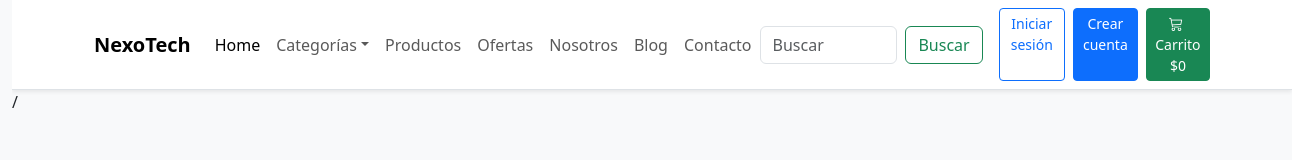
AppNavbar › al buscar navega al catálogo con el texto en la URL
Type "mouse gamer" into the search field with placeholder "Buscar" at (828, 44), box [760,26,897,64]
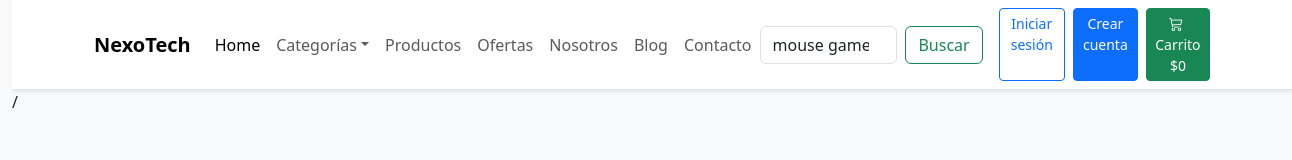
Submit the form, box [760,26,983,64]
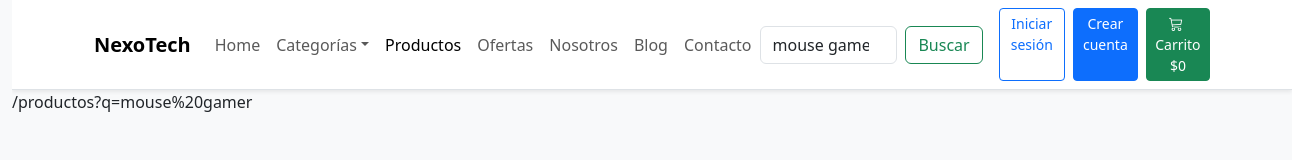
Now the text with test id "ubicacion" reads "/productos?q=mouse%20gamer", box [12,91,252,113]
